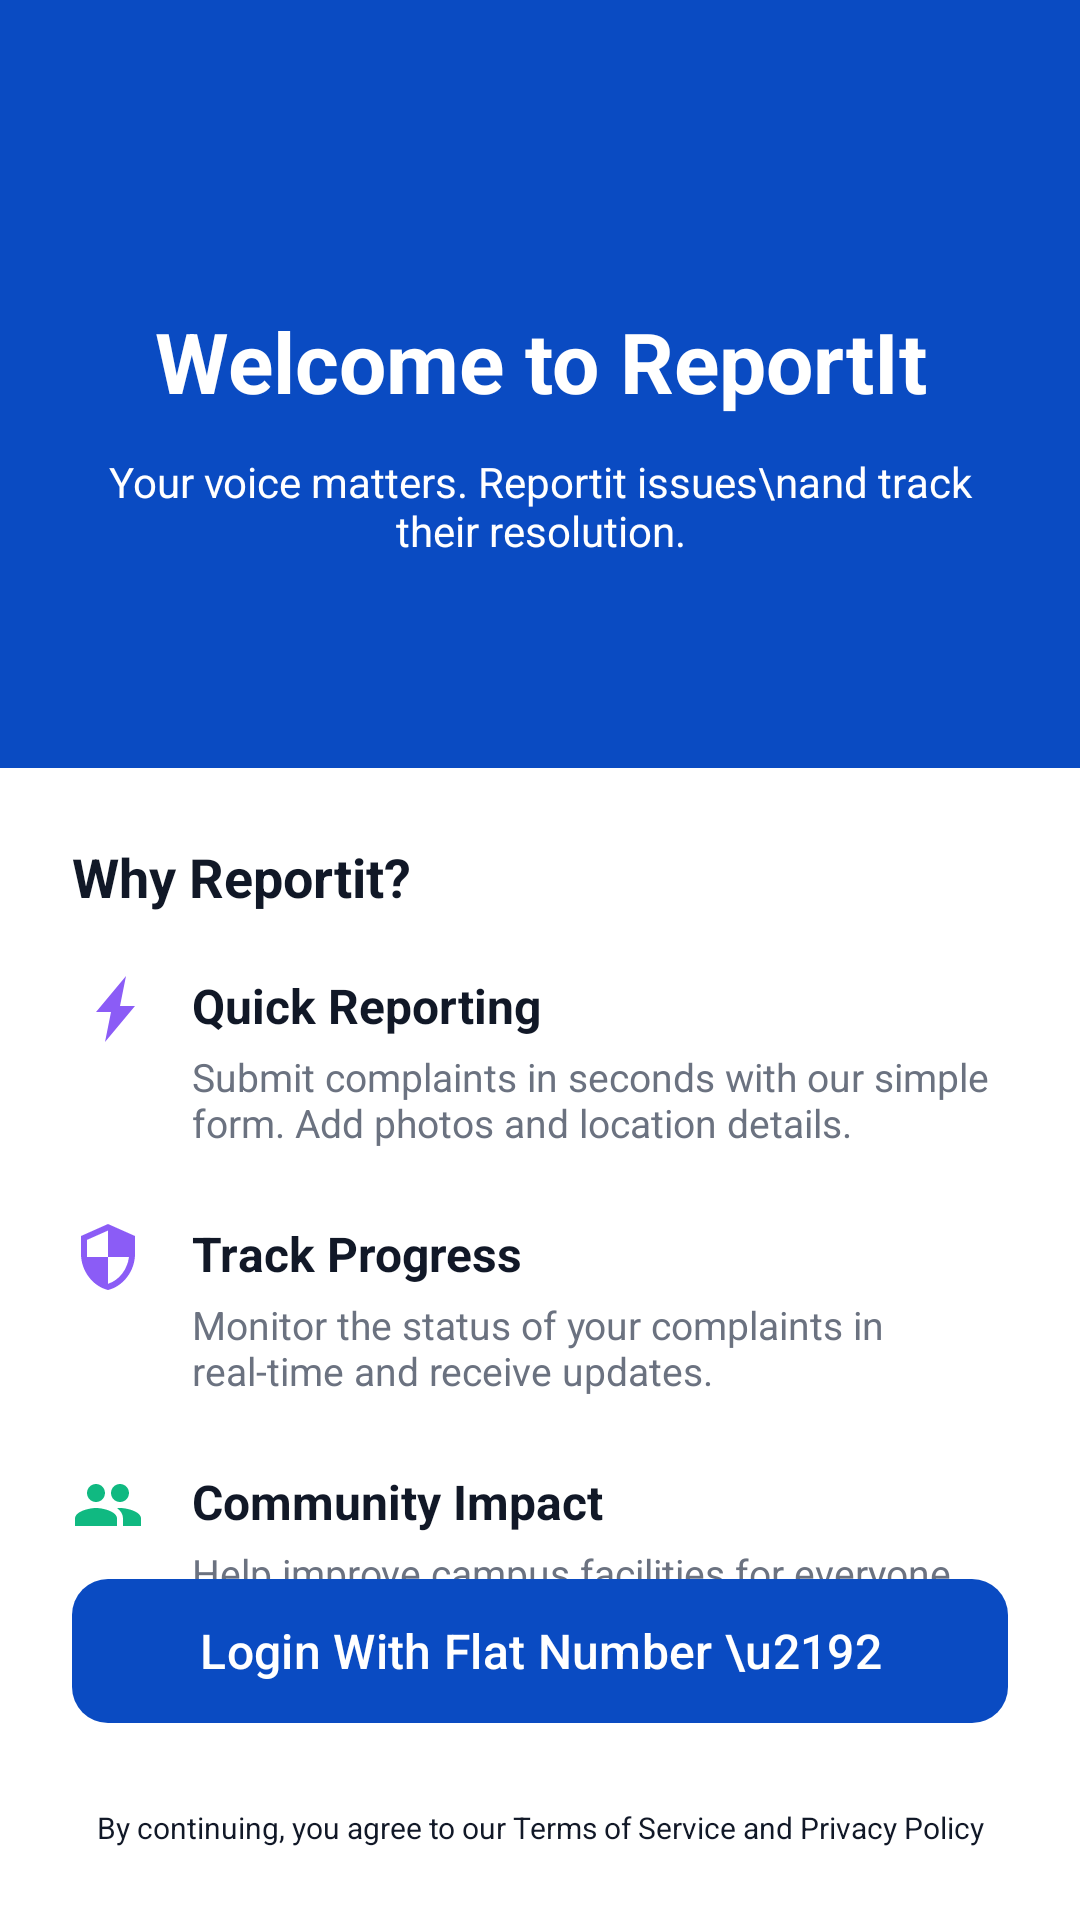

Screen size 1080w x 1920h. Icon name, then its box in pixels as [x1, y1, x2, y2]:
lightning: [96, 976, 135, 1042]
shield: [81, 1224, 135, 1290]
